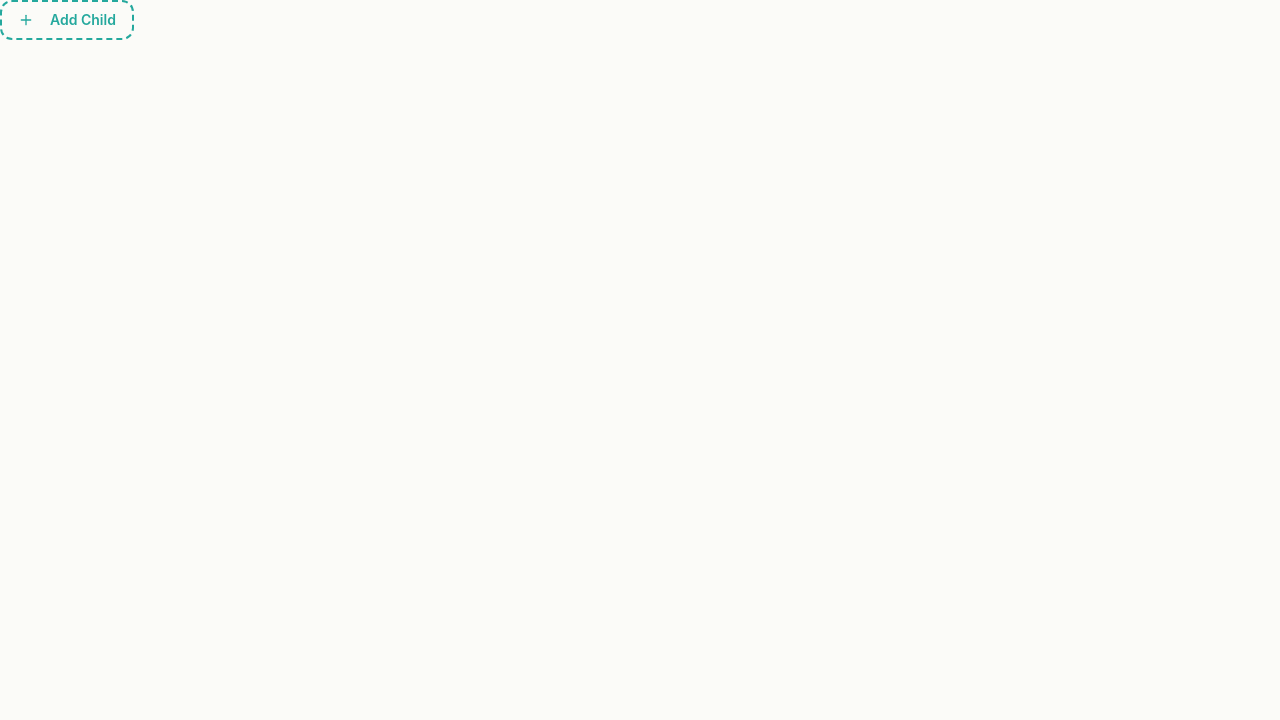
Test: AddChildDialog › shows validation error for short name
Click the button "Add Child" at (67, 20), box [0,0,134,40]
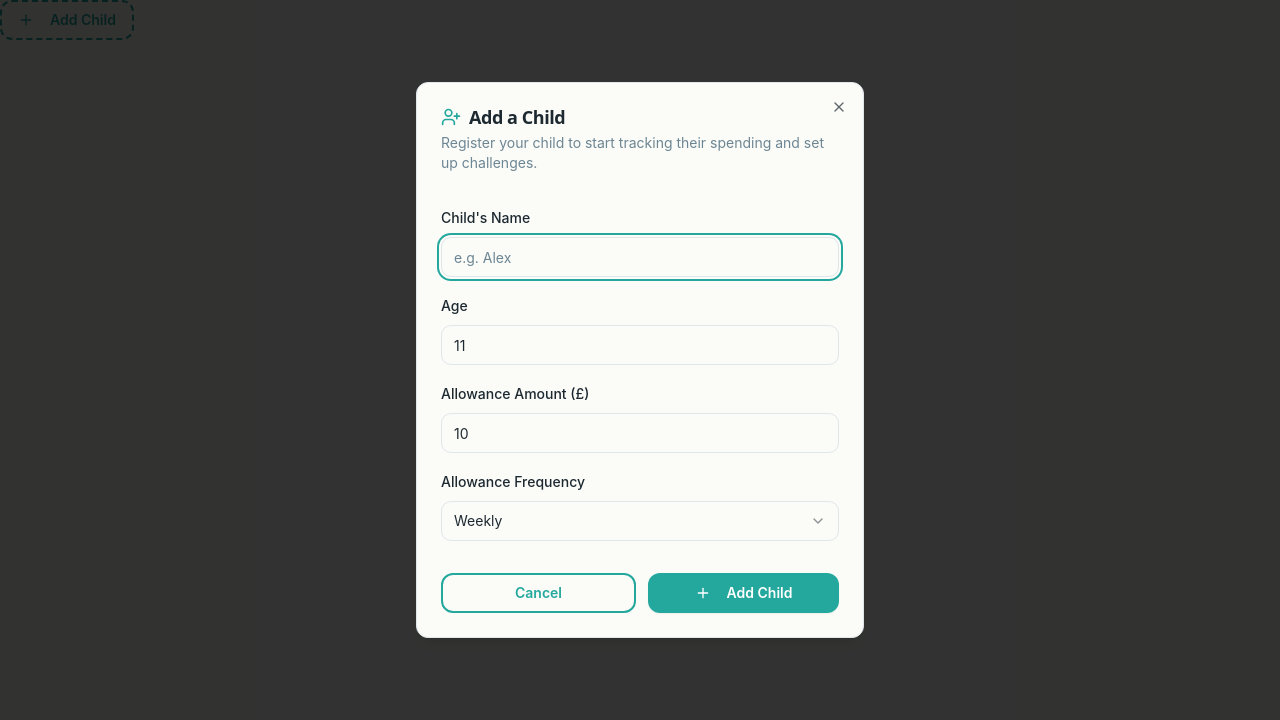
Type "A" into the field labelled "Child's Name" at (640, 257), box [441,237,839,277]
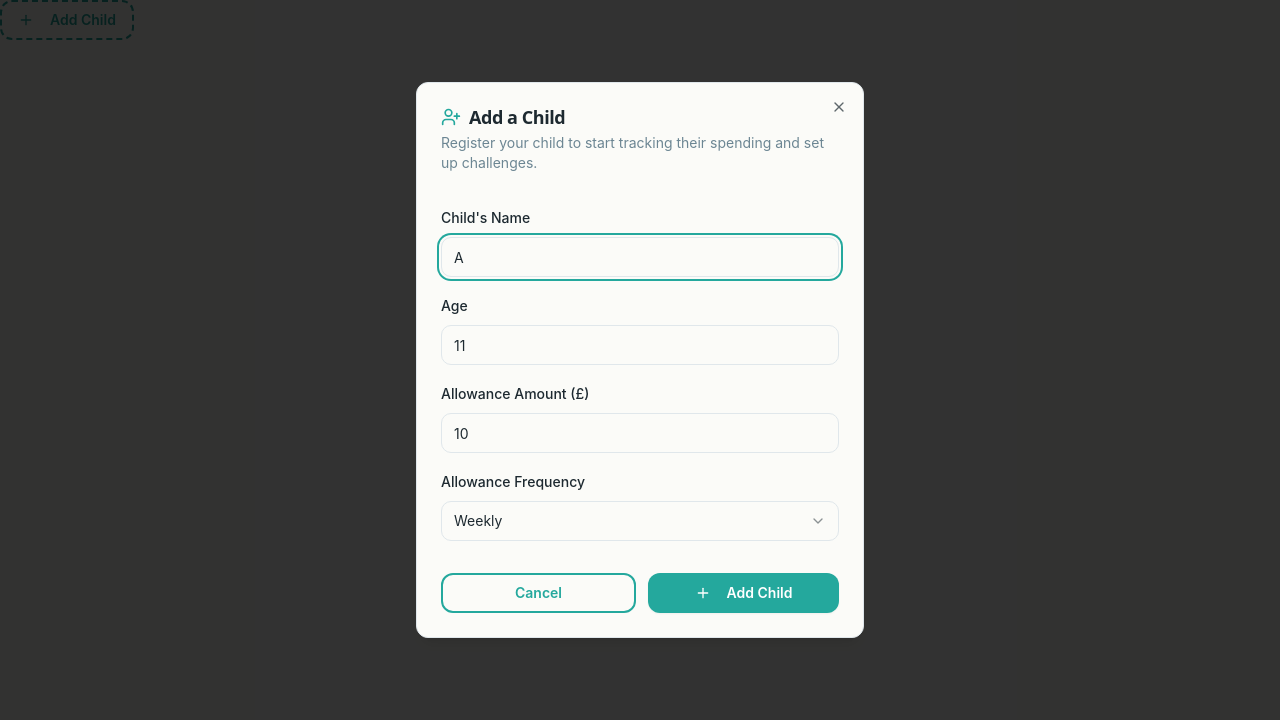
// Submit the form
Click the button "Add Child" at (744, 593), box [648,573,839,613]
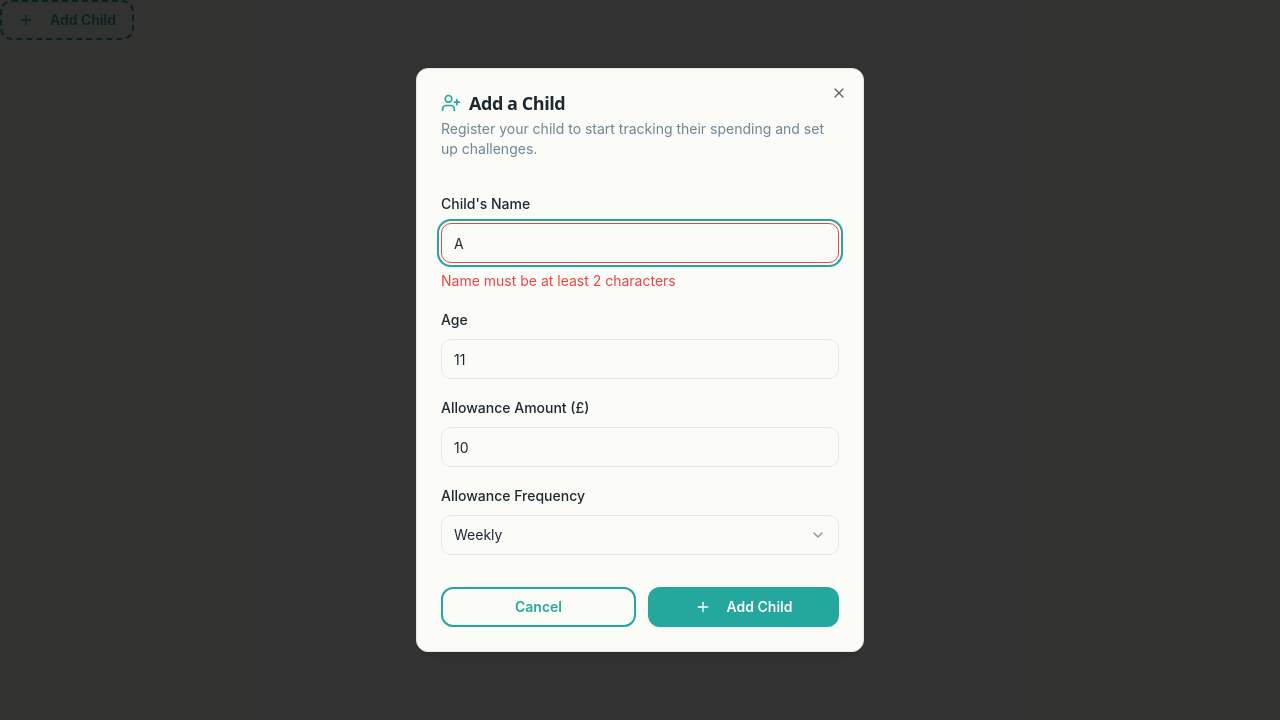
Now the text "Name must be at least 2 characters" is shown, box [441,272,676,289]
